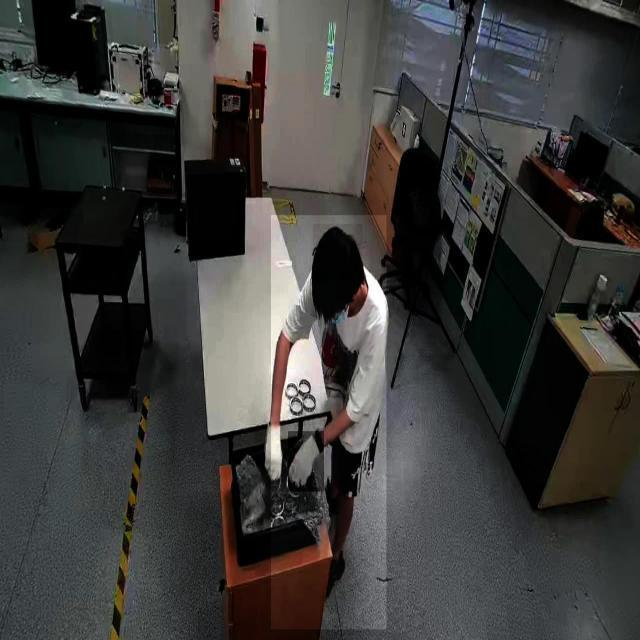gloves: (288, 431, 324, 493), (260, 424, 288, 482)
